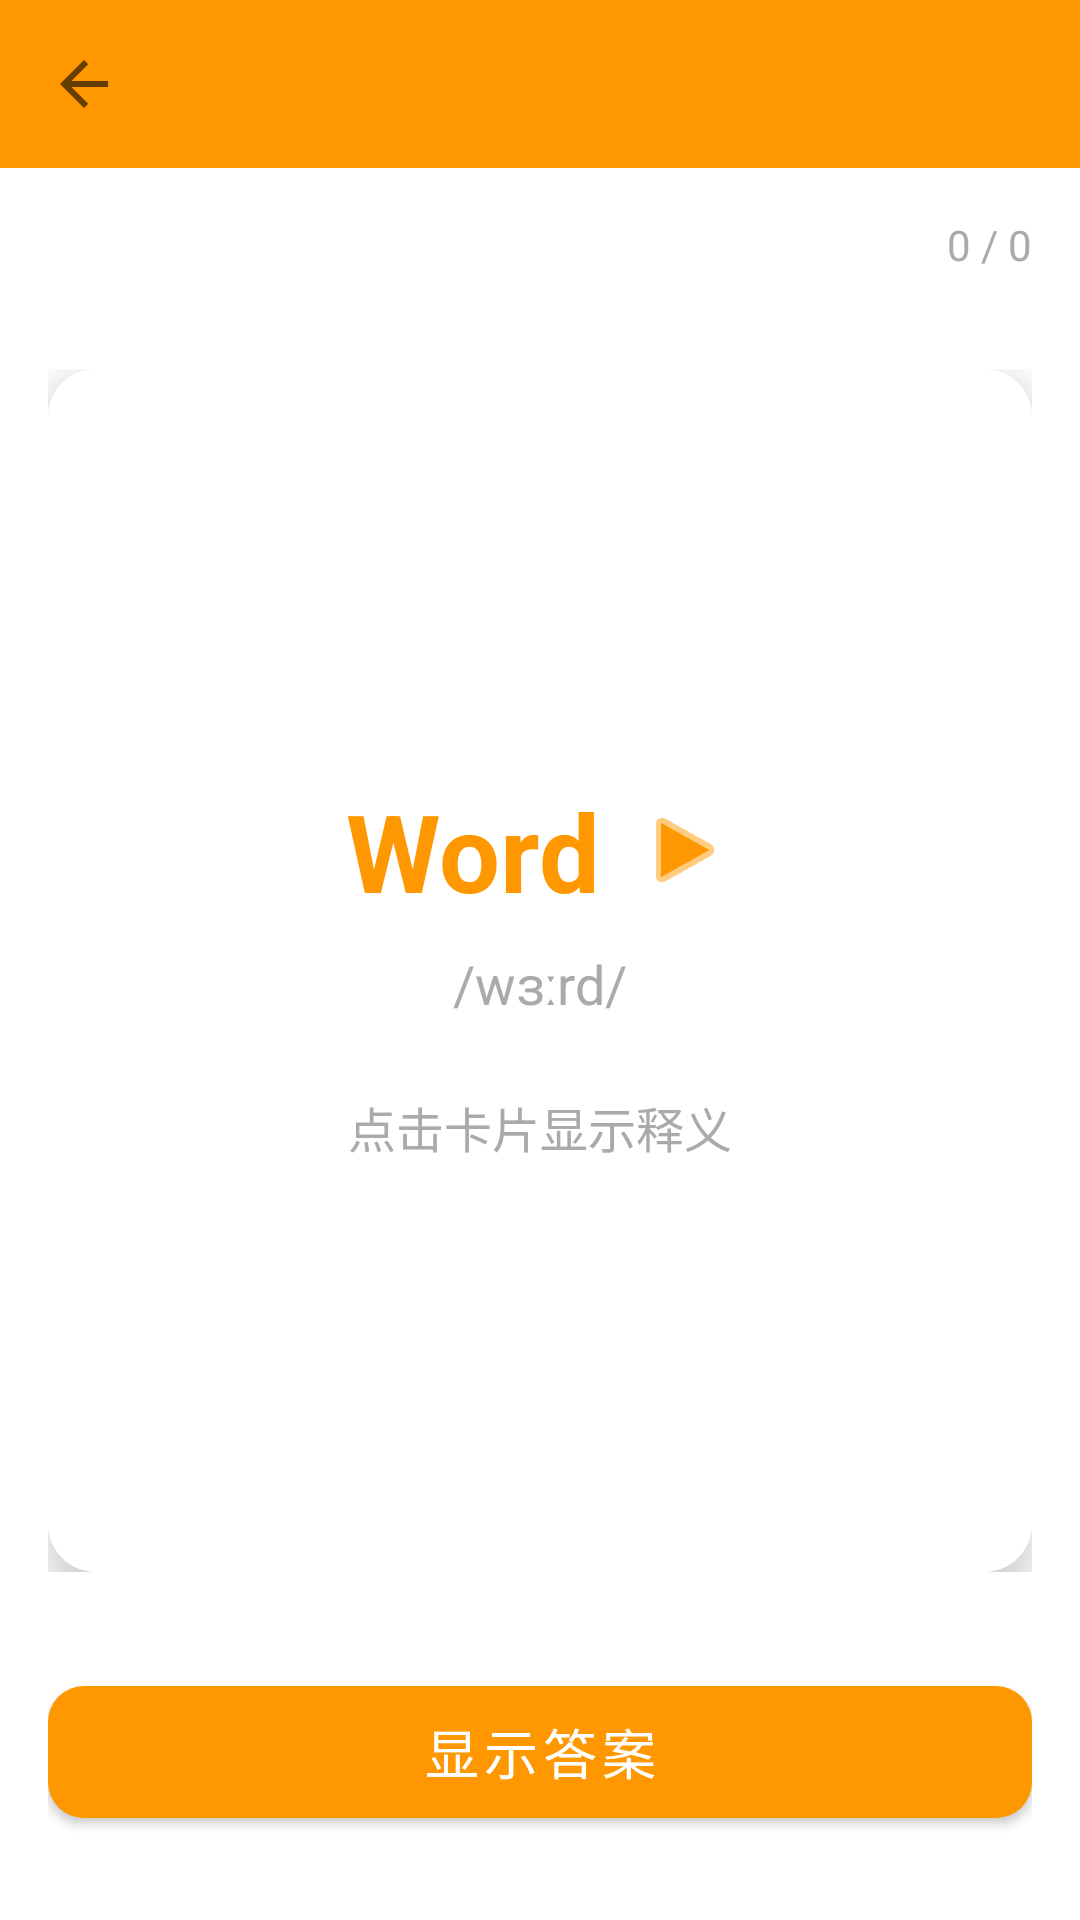

Screen size 1080px x 1920px. Icon name, then its center in pixels as [x,y]:
play: [685,850]
